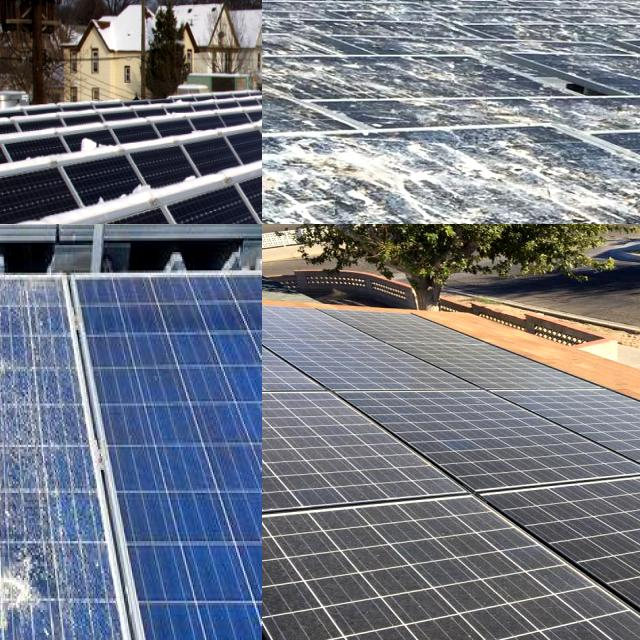bird: (262, 139, 399, 224), (442, 150, 548, 200), (262, 148, 324, 224)
dust: (284, 535, 512, 585), (328, 596, 536, 640), (338, 440, 428, 510), (262, 397, 315, 515), (571, 508, 640, 598)
hotspot: (0, 544, 58, 639)
panel: (58, 122, 134, 174), (82, 188, 158, 215)
